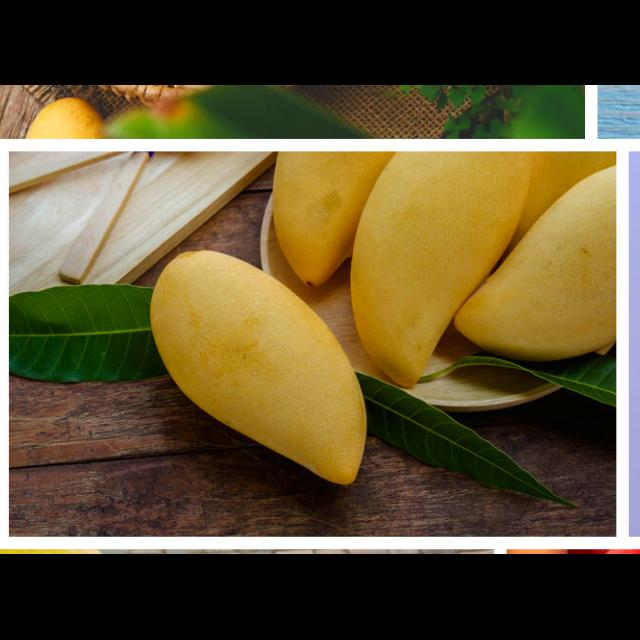mango: (151, 252, 365, 486), (353, 151, 530, 390)
